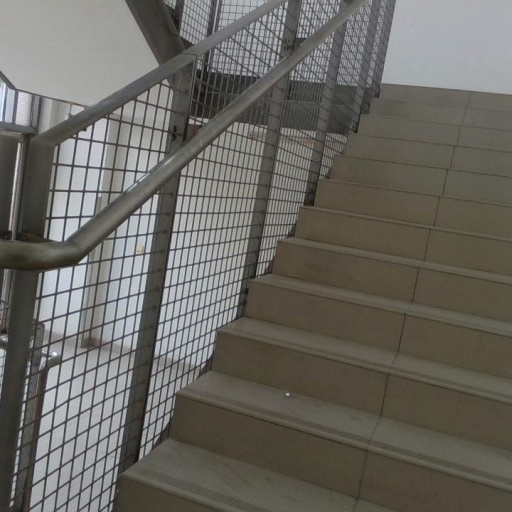Stairs: (116, 86, 512, 512)
